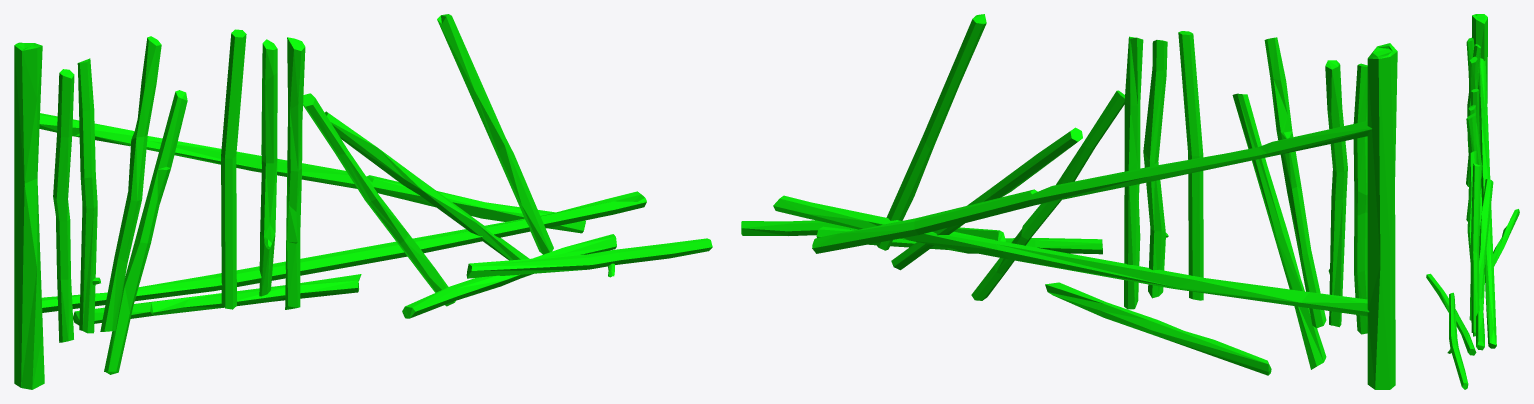
Rendered from SM_Fence_Stick_3m_Broken_B.fbx.
The picture shows the model from 3 angles, left to right: view 1: azimuth 30°, elevation 25°; view 2: azimuth 150°, elevation 25°; view 3: azimuth 270°, elevation 25°; orthographic projection. The views are drawn at different scales.
Parts seen in each view (by area): view 1: fence-stick-3m-broken-b; view 2: fence-stick-3m-broken-b; view 3: fence-stick-3m-broken-b.
Part boxes in pixels (x1,y1,x2,y2): fence-stick-3m-broken-b: [14, 14, 712, 389]; fence-stick-3m-broken-b: [741, 14, 1397, 389]; fence-stick-3m-broken-b: [1426, 14, 1519, 389].
Bounding box in the file's own units: 3.32 × 1.69 × 0.7287.
